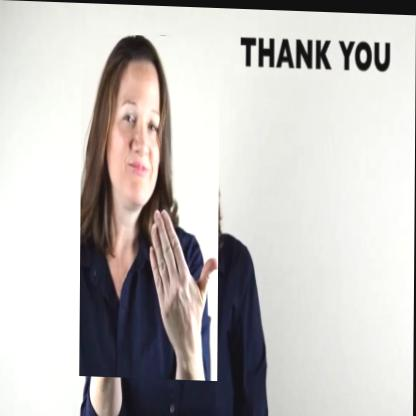ThankYou: (80, 32, 220, 379)
